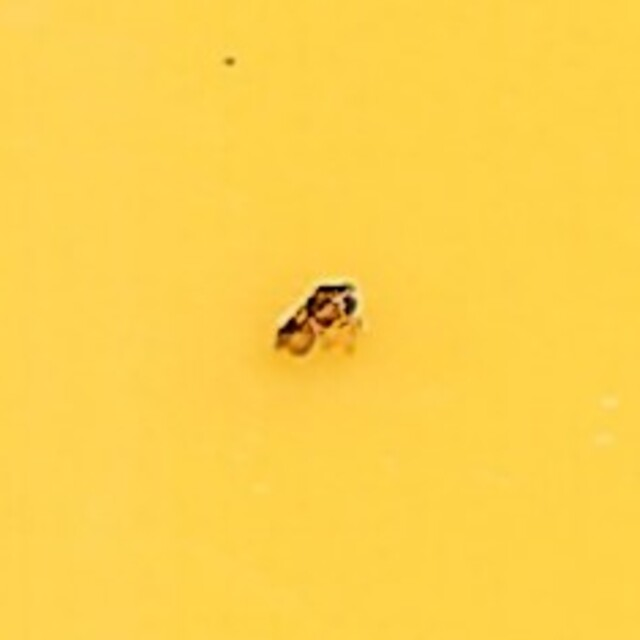Hymenoptera: (272, 281, 368, 359)
